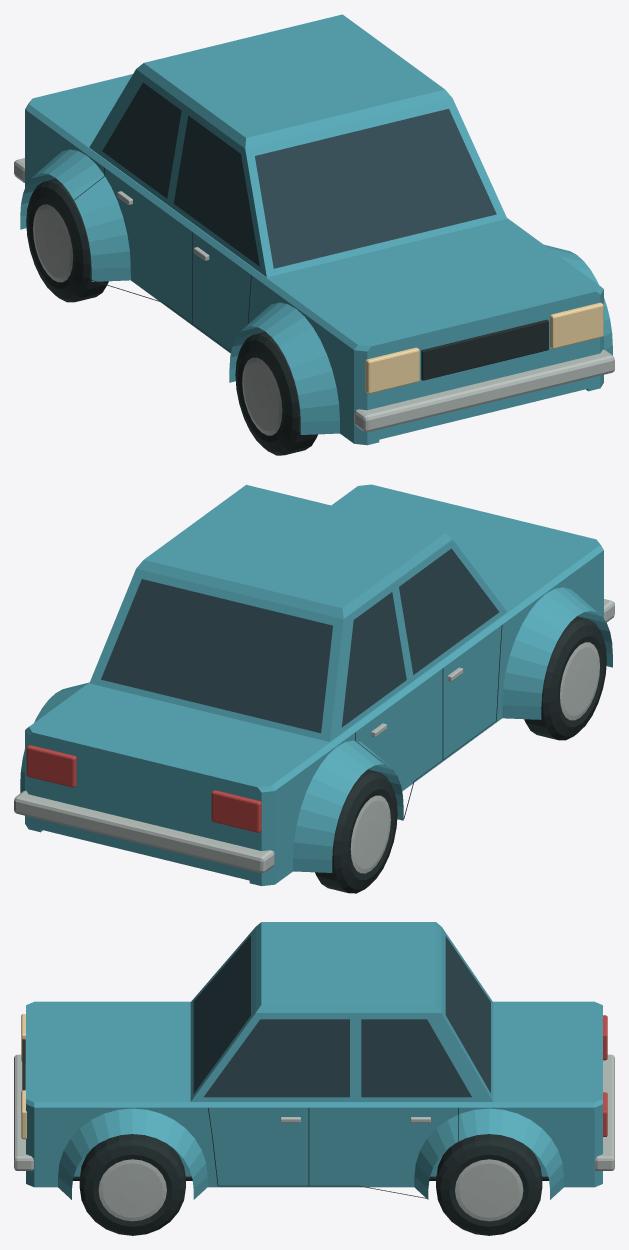
File: asset.glb
3 views of the same model, one above another, from view 1: azimuth 30°, elevation 25°; view 2: azimuth 150°, elevation 25°; view 3: azimuth 270°, elevation 25° (orthographic). The views are drawn at different scales.
Parts seen in each view (by area): view 1: Body_ThreeBox_LowerShell, Cabin_Painted_Pillars_Roof, Glass_Windshield, Glass_Front_L, wheel_rl, wheel_fl, Fender_Local_Rear_L, Fender_Local_Front_L, Bumper_Front, Glass_Rear_L, Grille_Dark, Headlight_L (+2 smaller); view 2: Body_ThreeBox_LowerShell, Cabin_Painted_Pillars_Roof, Glass_RearWindow, Glass_Front_L, wheel_rl, wheel_fl, Fender_Local_Front_L, Fender_Local_Rear_L, Bumper_Rear, Glass_Rear_L, Taillight_L, Taillight_R (+1 smaller); view 3: Body_ThreeBox_LowerShell, Cabin_Painted_Pillars_Roof, Glass_Front_R, wheel_fr, wheel_rr, Glass_Rear_R, Glass_Windshield, Fender_Local_Front_R, Fender_Local_Rear_R, Glass_RearWindow, Bumper_Rear, Bumper_Front.
Boxes of the visible parts, x1=… form: Body_ThreeBox_LowerShell: x1=25, y1=74, x2=603, y2=445; Cabin_Painted_Pillars_Roof: x1=89, y1=14, x2=507, y2=277; Glass_Windshield: x1=255, y1=108, x2=496, y2=268; Glass_Front_L: x1=174, y1=115, x2=259, y2=266; wheel_rl: x1=26, y1=178, x2=108, y2=302; wheel_fl: x1=235, y1=331, x2=317, y2=455; Fender_Local_Rear_L: x1=20, y1=149, x2=130, y2=281; Fender_Local_Front_L: x1=229, y1=302, x2=339, y2=434; Bumper_Front: x1=354, y1=349, x2=614, y2=432; Glass_Rear_L: x1=102, y1=82, x2=181, y2=198; Grille_Dark: x1=421, y1=319, x2=548, y2=380; Headlight_L: x1=365, y1=347, x2=419, y2=393; Body_ThreeBox_LowerShell: x1=25, y1=484, x2=603, y2=886; Cabin_Painted_Pillars_Roof: x1=89, y1=484, x2=506, y2=741; Glass_RearWindow: x1=101, y1=579, x2=332, y2=733; Glass_Front_L: x1=399, y1=548, x2=499, y2=674; wheel_rl: x1=315, y1=769, x2=397, y2=893; wheel_fl: x1=524, y1=616, x2=606, y2=740; Fender_Local_Front_L: x1=502, y1=587, x2=612, y2=719; Fender_Local_Rear_L: x1=293, y1=740, x2=403, y2=872; Bumper_Rear: x1=14, y1=790, x2=274, y2=873; Glass_Rear_L: x1=341, y1=592, x2=406, y2=727; Taillight_L: x1=211, y1=790, x2=261, y2=832; Taillight_R: x1=26, y1=745, x2=76, y2=787; Body_ThreeBox_LowerShell: x1=26, y1=1001, x2=602, y2=1187; Cabin_Painted_Pillars_Roof: x1=190, y1=922, x2=493, y2=1101; Glass_Front_R: x1=204, y1=1019, x2=349, y2=1097; wheel_fr: x1=79, y1=1134, x2=185, y2=1235; wheel_rr: x1=436, y1=1134, x2=542, y2=1235; Glass_Rear_R: x1=361, y1=1019, x2=471, y2=1097; Glass_Windshield: x1=193, y1=935, x2=250, y2=1093; Fender_Local_Front_R: x1=58, y1=1108, x2=207, y2=1199; Fender_Local_Rear_R: x1=414, y1=1108, x2=563, y2=1199; Glass_RearWindow: x1=445, y1=936, x2=490, y2=1092; Bumper_Rear: x1=595, y1=1054, x2=614, y2=1170; Bumper_Front: x1=14, y1=1054, x2=33, y2=1170.
Bounding box in the file's own units: 2.25 × 1.65 × 4.3.
